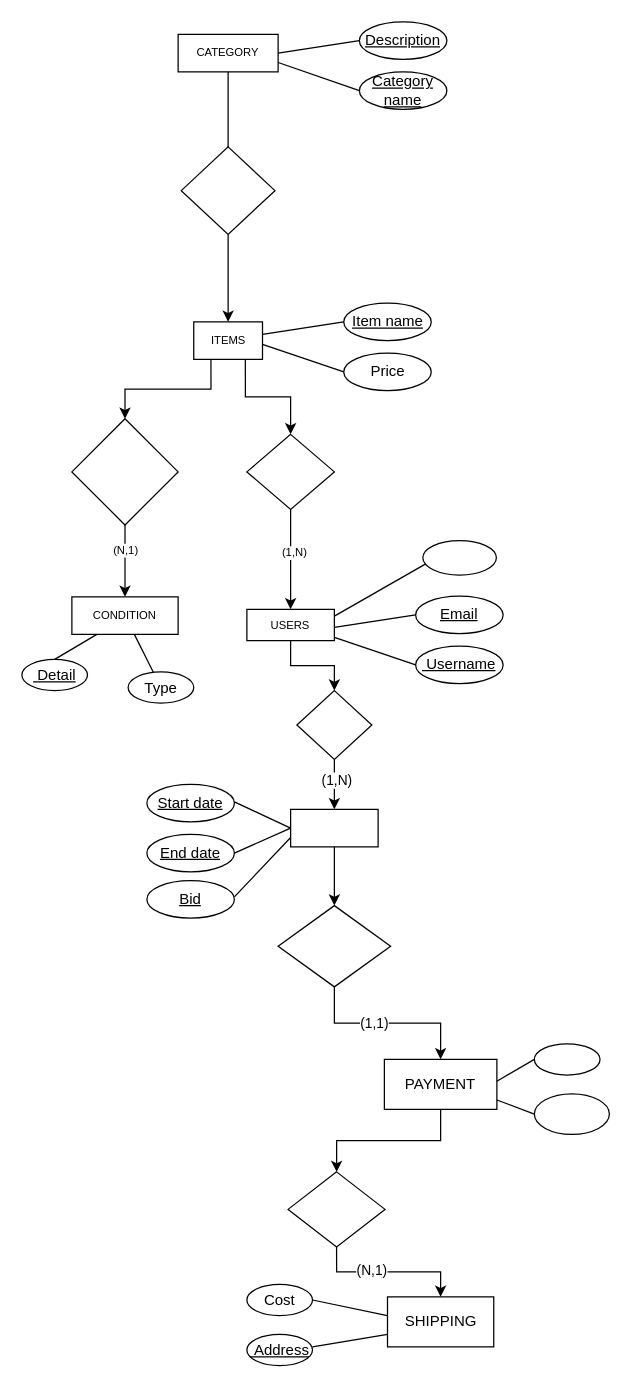
Image size: 631x1388. Some labels were removed from this diagram. The shapes that lost their labels are listed below. From the top down, each one's centre as x and y in pixels, then its label:
[227,190]: BELONGS_TO
[124,471]: HAS_CONDITION
[290,471]: LISTS
[459,557]: UserID
[334,724]: CREATE
[333,827]: AUCTION
[334,945]: RESULTS_IN
[566,1058]: Method
[571,1113]: Total Amount
[336,1209]: SHIPS_BY
